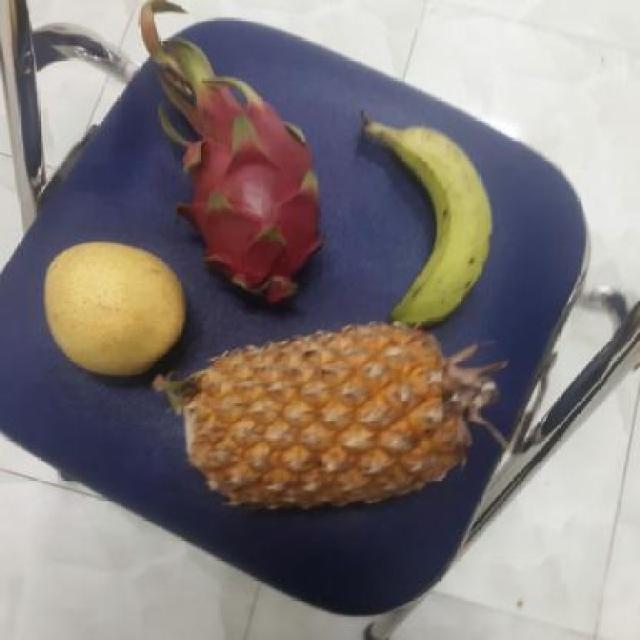banana: (362, 121, 504, 324)
dragon fruit: (169, 88, 329, 298)
pear: (43, 238, 192, 378)
pineapple: (170, 328, 488, 512)
